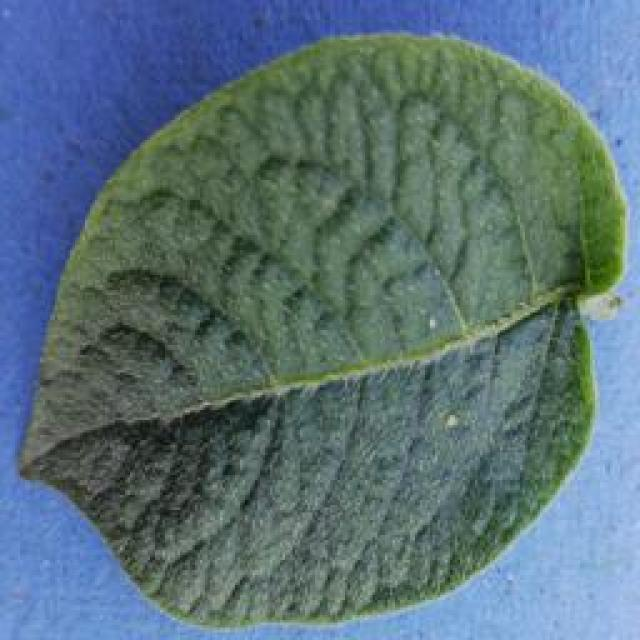Potato_Healthy: (20, 31, 624, 628)
